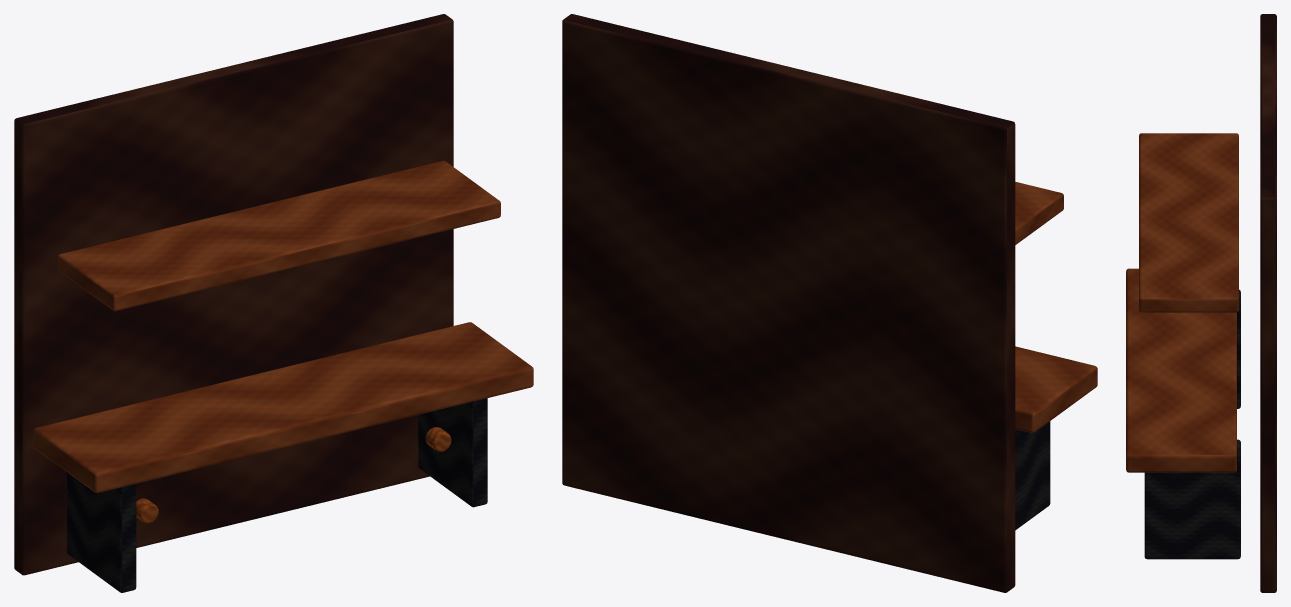
Rendered from wall-shelf-pbr-v1.glb.
3 renders of one model, left to right at view 1: azimuth 30°, elevation 25°; view 2: azimuth 150°, elevation 25°; view 3: azimuth 270°, elevation 25°, orthographic. The views are drawn at different scales.
Visible parts, largest first — view 1: wall-shelf-back-panel, wall-shelf-honey-ledger, wall-shelf-upper-board, wall-shelf-graphite-bracket, wall-shelf-graphite-bracket.001; view 2: wall-shelf-back-panel, wall-shelf-honey-ledger, wall-shelf-graphite-bracket, wall-shelf-upper-board; view 3: wall-shelf-honey-ledger, wall-shelf-upper-board, wall-shelf-back-panel, wall-shelf-graphite-bracket.001, wall-shelf-graphite-bracket.
Part boxes in pixels (x1,y1,x2,y2): wall-shelf-back-panel: (14, 14, 453, 575); wall-shelf-honey-ledger: (33, 322, 533, 493); wall-shelf-upper-board: (58, 160, 500, 311); wall-shelf-graphite-bracket: (67, 472, 136, 592); wall-shelf-graphite-bracket.001: (418, 398, 487, 507); wall-shelf-back-panel: (562, 14, 1015, 592); wall-shelf-honey-ledger: (1015, 346, 1097, 433); wall-shelf-graphite-bracket: (1015, 421, 1050, 530); wall-shelf-upper-board: (1015, 182, 1063, 244); wall-shelf-honey-ledger: (1126, 268, 1236, 472); wall-shelf-upper-board: (1139, 133, 1238, 312); wall-shelf-back-panel: (1260, 14, 1276, 592); wall-shelf-graphite-bracket.001: (1144, 439, 1240, 559); wall-shelf-graphite-bracket: (1237, 289, 1240, 408).
Bounding box in the file's own units: 1.2 × 1.18 × 0.4075.
4 materials, 4 textured.
